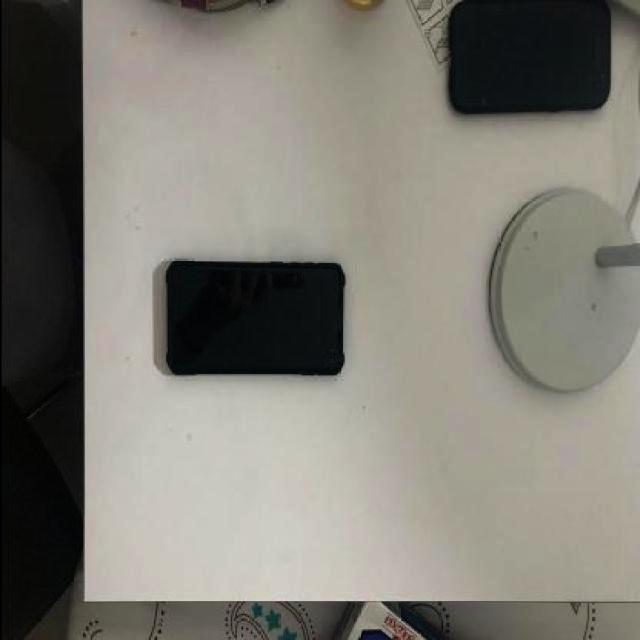phone: (164, 257, 343, 377), (448, 0, 608, 114)
